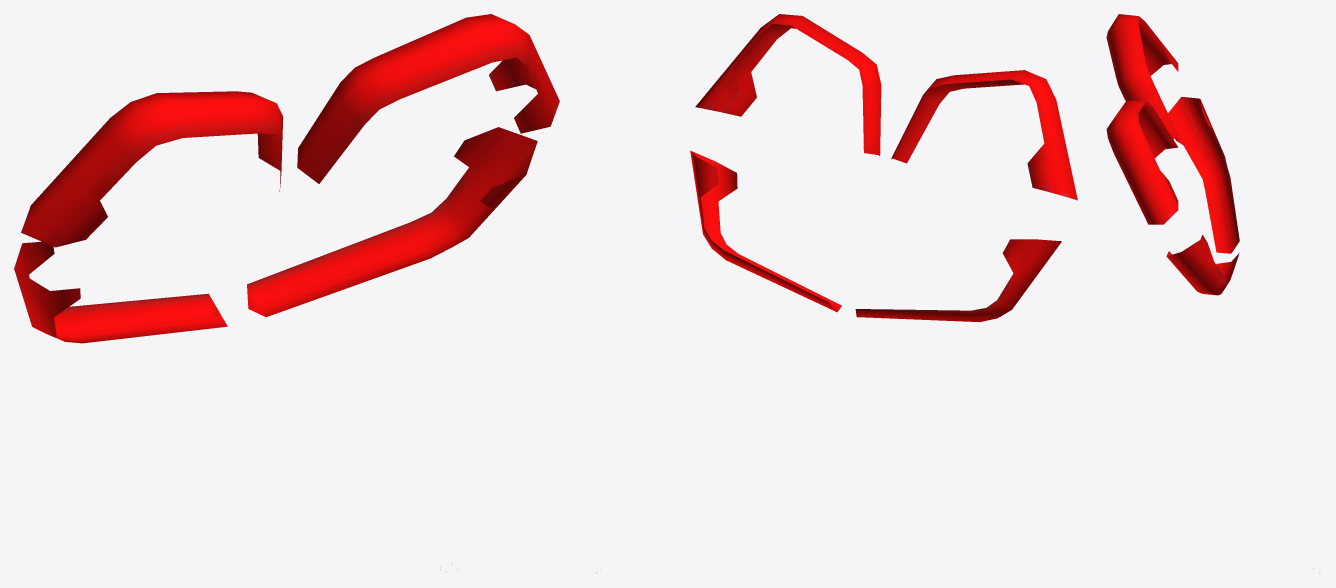
Rendered from steeringWheel.fbx.
The picture shows the model from 3 angles, left to right: view 1: azimuth 30°, elevation 25°; view 2: azimuth 150°, elevation 25°; view 3: azimuth 270°, elevation 25°; orthographic projection. The views are drawn at different scales.
Parts seen in each view (by area): view 1: r_0139.002; view 2: r_0139.002; view 3: r_0139.002.
Boxes of the visible parts, <box> form: r_0139.002: <box>14,14,559,343</box>; r_0139.002: <box>690,14,1077,322</box>; r_0139.002: <box>1106,14,1239,295</box>.
Bounding box in the file's own units: 59.84 × 70.79 × 32.78.
Materials: 1 (1 with a texture image).
